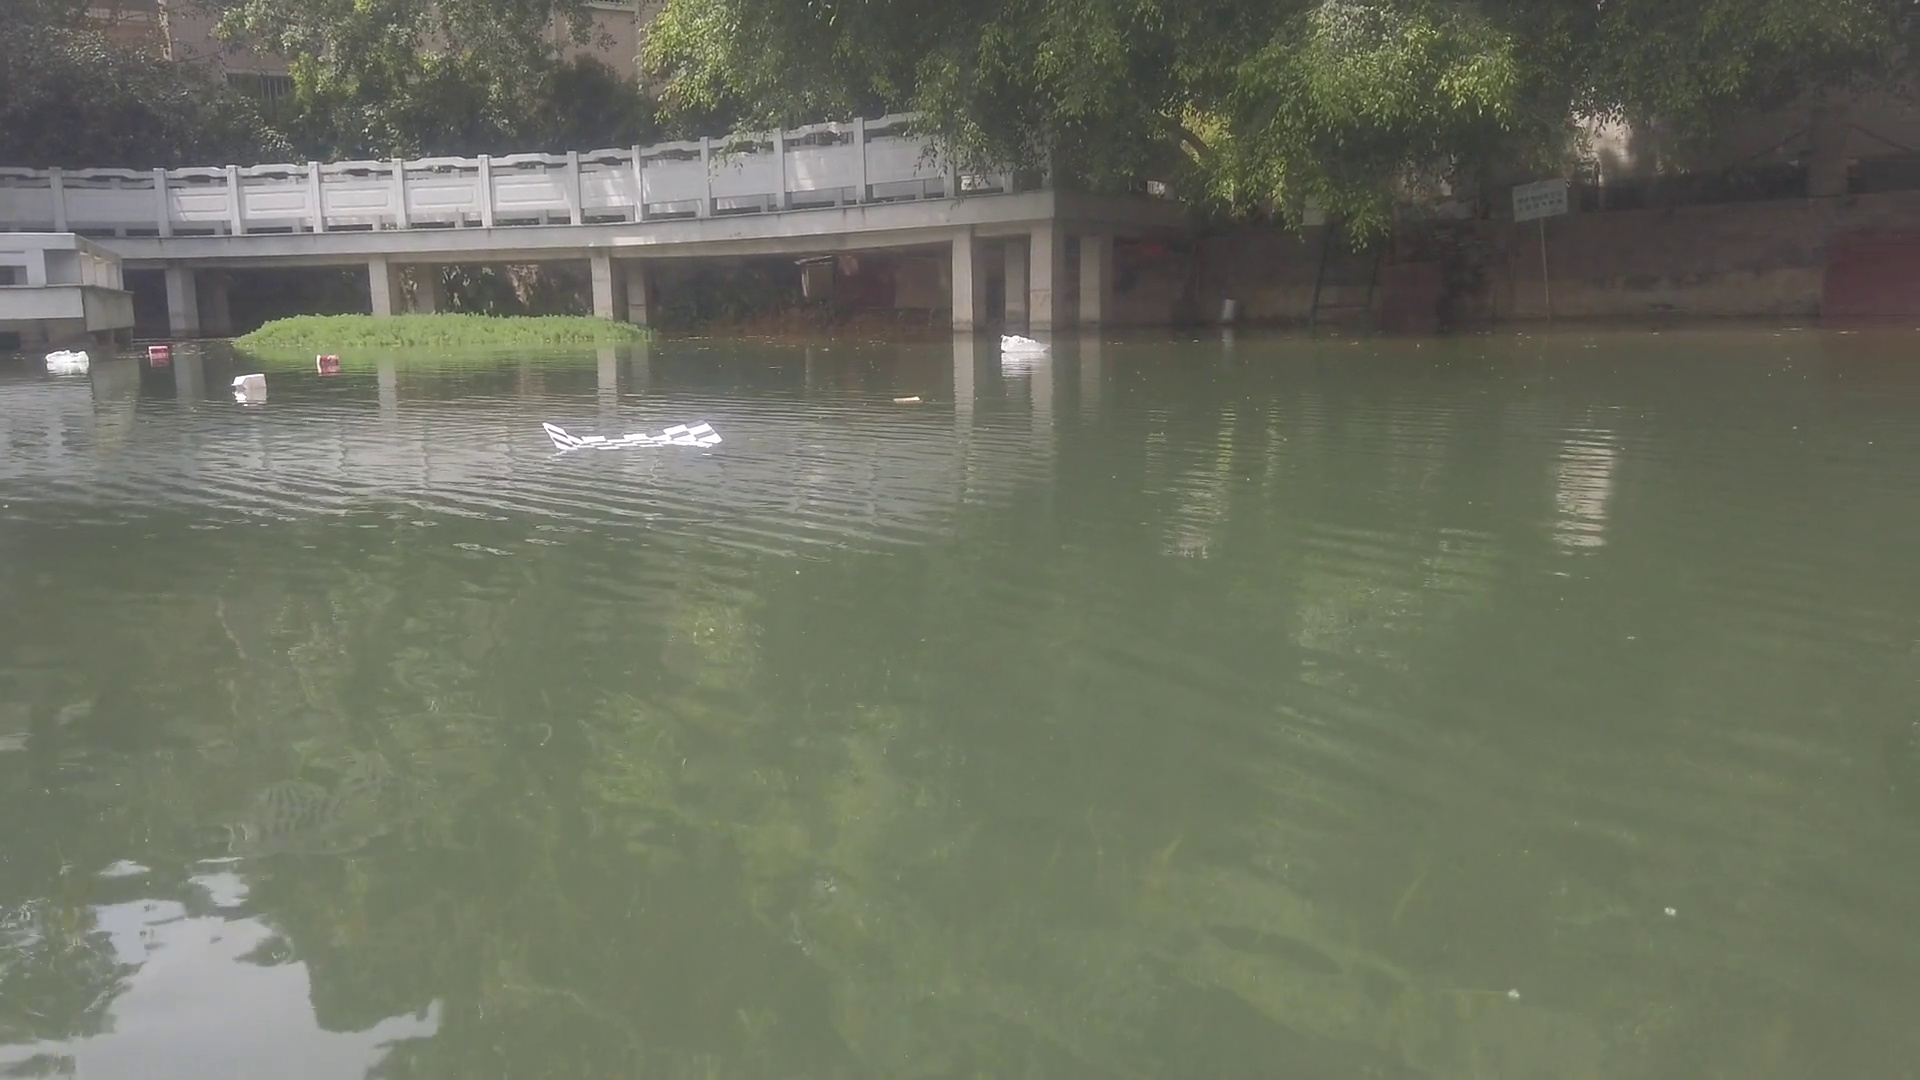bottle: (314, 352, 342, 367), (146, 342, 167, 355)
carton: (227, 371, 273, 390)
paper: (537, 417, 724, 454), (894, 393, 923, 406)
plastic: (997, 334, 1054, 352), (40, 348, 90, 363)
